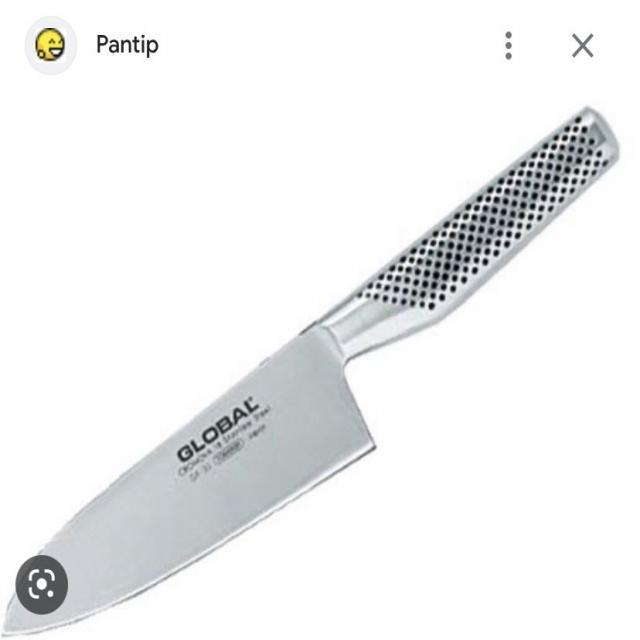Knife: (5, 89, 622, 639)
